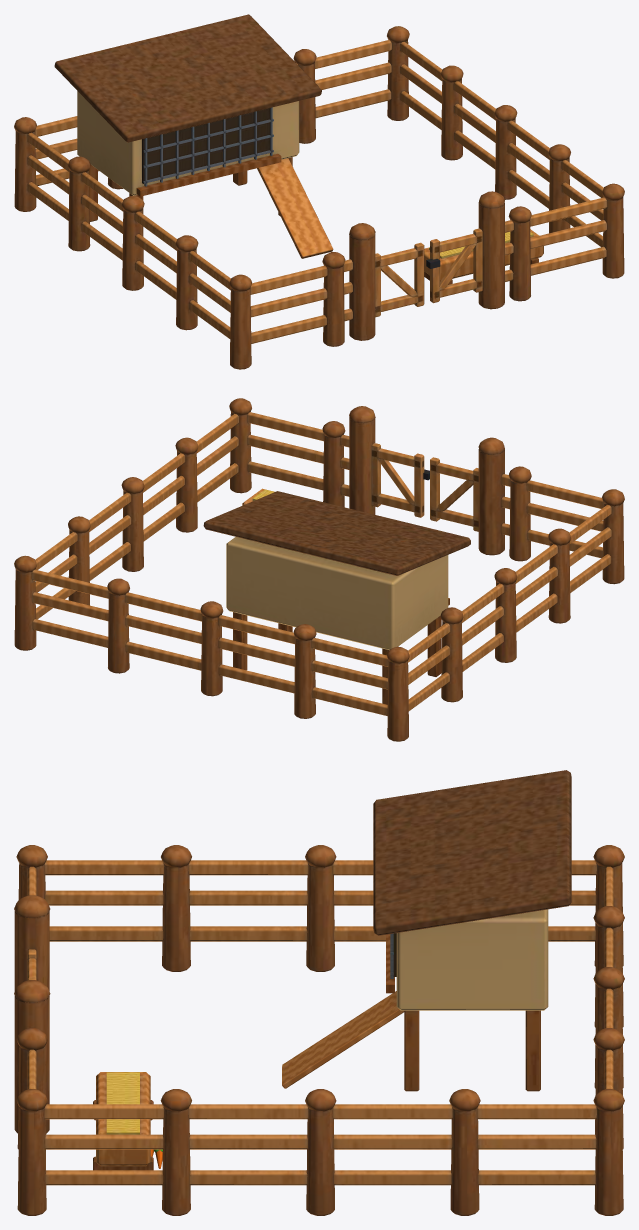
The model's file is lop_hutch.glb.
3 renders of one model, top to bottom at view 1: azimuth 30°, elevation 25°; view 2: azimuth 150°, elevation 25°; view 3: azimuth 270°, elevation 25°, orthographic. The views are drawn at different scales.
Visible parts, largest first — view 1: lop_hutch, gate1, gate0; view 2: lop_hutch, gate1, gate0; view 3: lop_hutch.
Part boxes in pixels (left/top/right/bottom): lop_hutch: left=14, top=14, right=624, bottom=369; gate1: left=426, top=228, right=482, bottom=303; gate0: left=375, top=242, right=424, bottom=317; lop_hutch: left=14, top=398, right=624, bottom=741; gate1: left=371, top=443, right=429, bottom=517; gate0: left=430, top=457, right=478, bottom=531; lop_hutch: left=14, top=770, right=624, bottom=1215.
Size of the model in its own units: 2 by 0.7572 by 2.01.
Materials: 1 (1 with a texture image).
